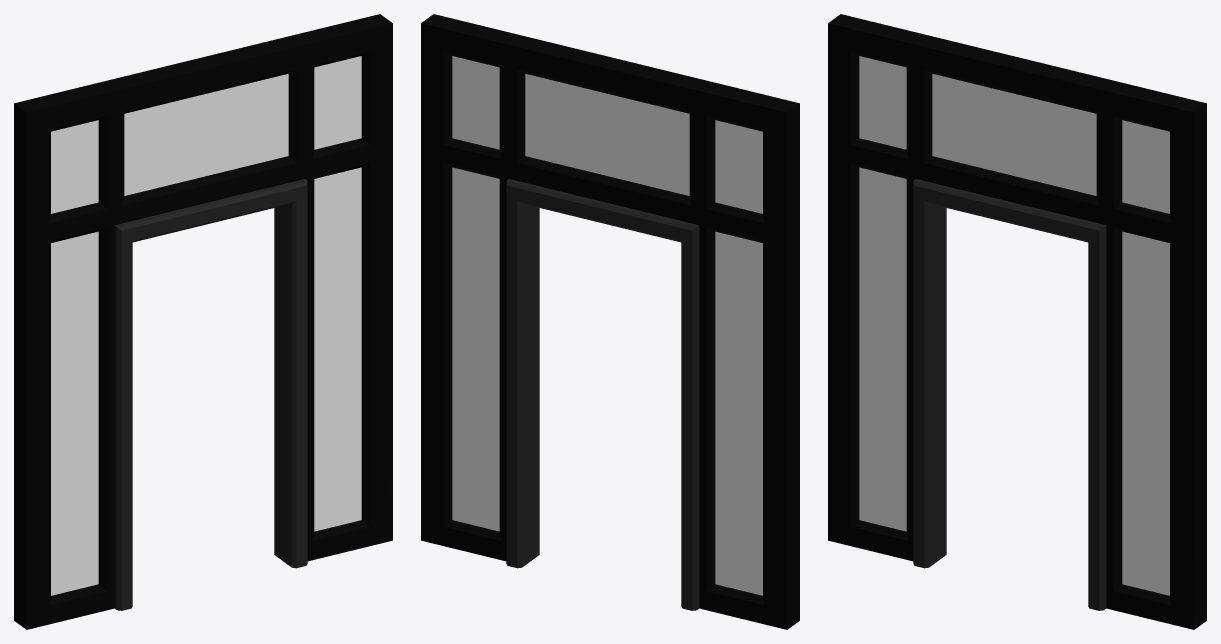
Rendered from WindowWallWithoutDoor.glb.
3 views of the same model, side by side, from view 1: azimuth 30°, elevation 25°; view 2: azimuth 150°, elevation 25°; view 3: azimuth 330°, elevation 25° (orthographic).
Visible parts, largest first — view 1: WindowDoorWall; view 2: WindowDoorWall; view 3: WindowDoorWall.
Boxes of the visible parts, x1=… form: WindowDoorWall: x1=14, y1=14, x2=392, y2=629; WindowDoorWall: x1=421, y1=14, x2=799, y2=629; WindowDoorWall: x1=828, y1=14, x2=1206, y2=629.
Bounding box in the file's own units: 2 × 2.7 × 0.2.
Materials: 2 (1 with a texture image).
